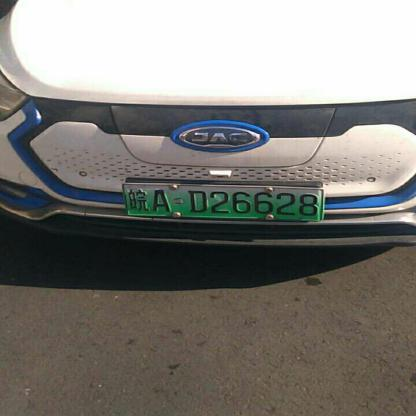lp: (122, 184, 323, 221)
